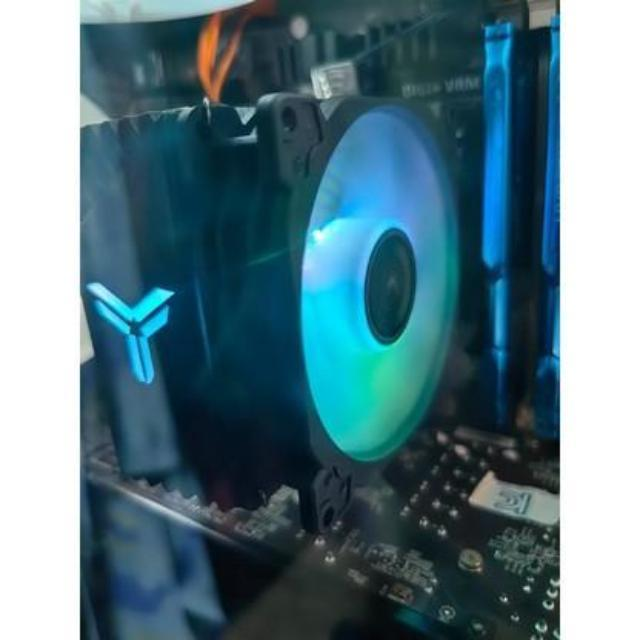CPU_Fan: (59, 98, 458, 533)
